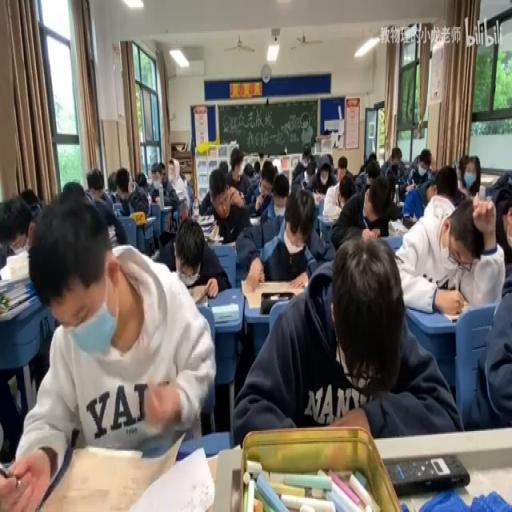calculator: (241, 274, 308, 308), (0, 292, 34, 322), (86, 444, 139, 456), (210, 302, 238, 324), (186, 282, 209, 304), (262, 234, 280, 260), (378, 232, 404, 250), (196, 214, 214, 238), (442, 307, 467, 323), (107, 223, 117, 245), (180, 198, 188, 218), (478, 175, 496, 183), (312, 192, 323, 205), (174, 188, 185, 200), (143, 216, 156, 225), (249, 214, 260, 224), (396, 199, 403, 209)
paper: (6, 192, 214, 509), (235, 235, 456, 442), (393, 180, 502, 312), (240, 186, 330, 289), (198, 165, 252, 247), (330, 170, 374, 248), (83, 166, 128, 240), (0, 193, 35, 262), (148, 161, 182, 229), (250, 160, 280, 218), (408, 148, 434, 186), (291, 144, 315, 184), (432, 164, 458, 200), (382, 145, 405, 182), (333, 153, 353, 185), (453, 154, 469, 188), (490, 170, 512, 194), (18, 188, 41, 209), (210, 179, 226, 205), (273, 180, 288, 204), (366, 162, 380, 186), (115, 170, 129, 194), (60, 181, 82, 196), (106, 170, 118, 194), (230, 150, 242, 174), (134, 170, 148, 188), (147, 183, 160, 202), (168, 159, 178, 181), (186, 178, 192, 212), (242, 161, 254, 176), (218, 161, 229, 176), (357, 162, 366, 175), (157, 170, 165, 184), (428, 155, 435, 171), (253, 161, 260, 176), (326, 154, 332, 169), (367, 150, 376, 160)
person: (386, 452, 470, 494), (402, 214, 416, 228)
